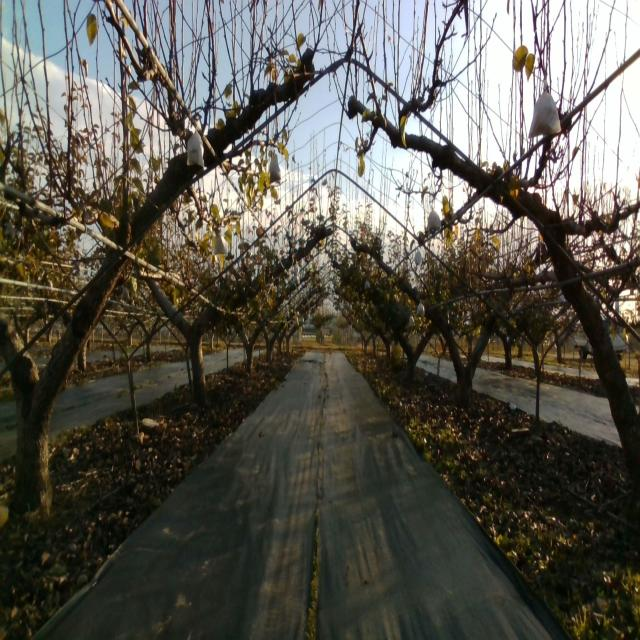pearbags: (528, 80, 562, 140), (186, 122, 205, 169), (212, 230, 228, 256), (268, 156, 281, 184), (428, 205, 442, 231)
